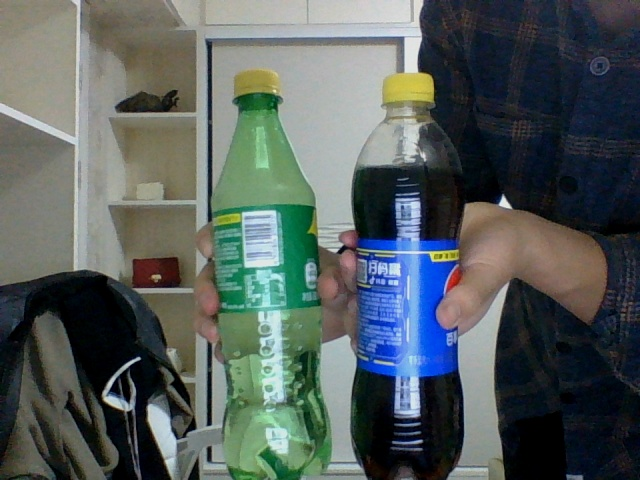Cola: (350, 73, 465, 478)
Sprite: (209, 68, 332, 477)
